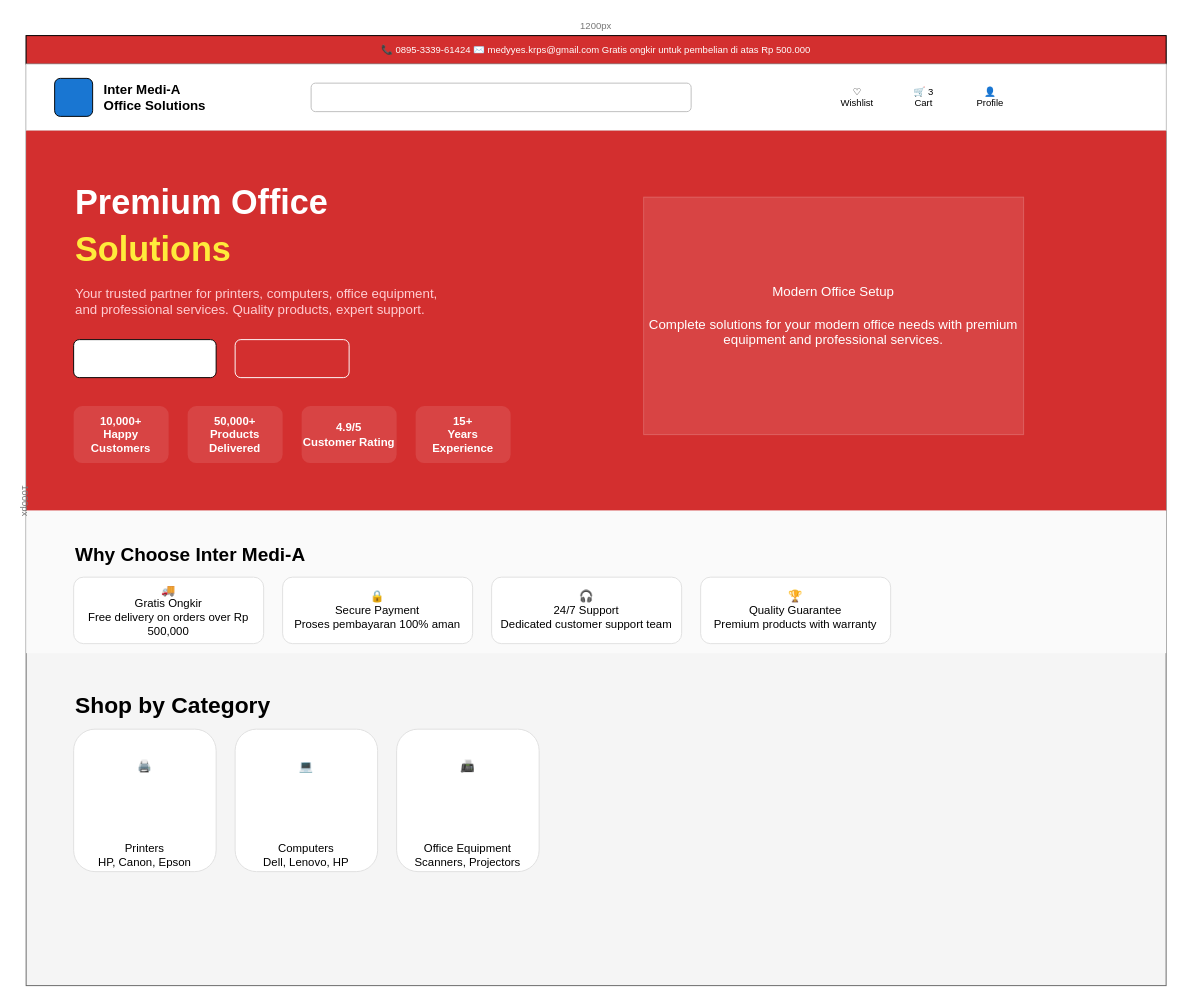
The diagram is 1183 pixels wide and 1002 high, and some of its shapes have lost their labels. Here are the shapes that lost their labels. From the top down, the centre of each, then its label:
At [73,96]: "IM".
At [500,97]: "Cari printer, komputer, peralatan kantor...".
At [144,358]: "Belanja Sekarang".
At [291,358]: "Our Services".
